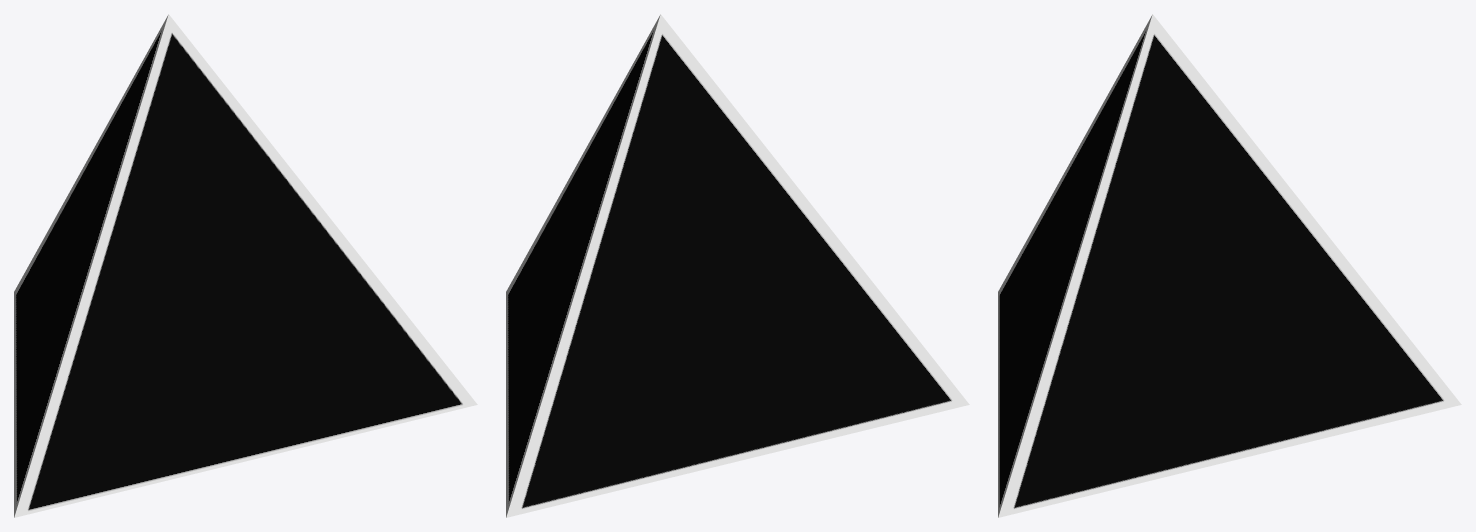
Rendered from geoTri.fbx.
3 renders of one model, left to right at view 1: azimuth 30°, elevation 25°; view 2: azimuth 150°, elevation 25°; view 3: azimuth 270°, elevation 25°, orthographic.
Visible parts, largest first — view 1: Cone; view 2: Cone; view 3: Cone.
Part boxes in pixels (bbox=[...]): Cone: bbox=[14, 14, 477, 517]; Cone: bbox=[506, 14, 969, 517]; Cone: bbox=[998, 14, 1461, 517].
Bounding box in the file's own units: 1.73 × 1.4 × 1.5.
